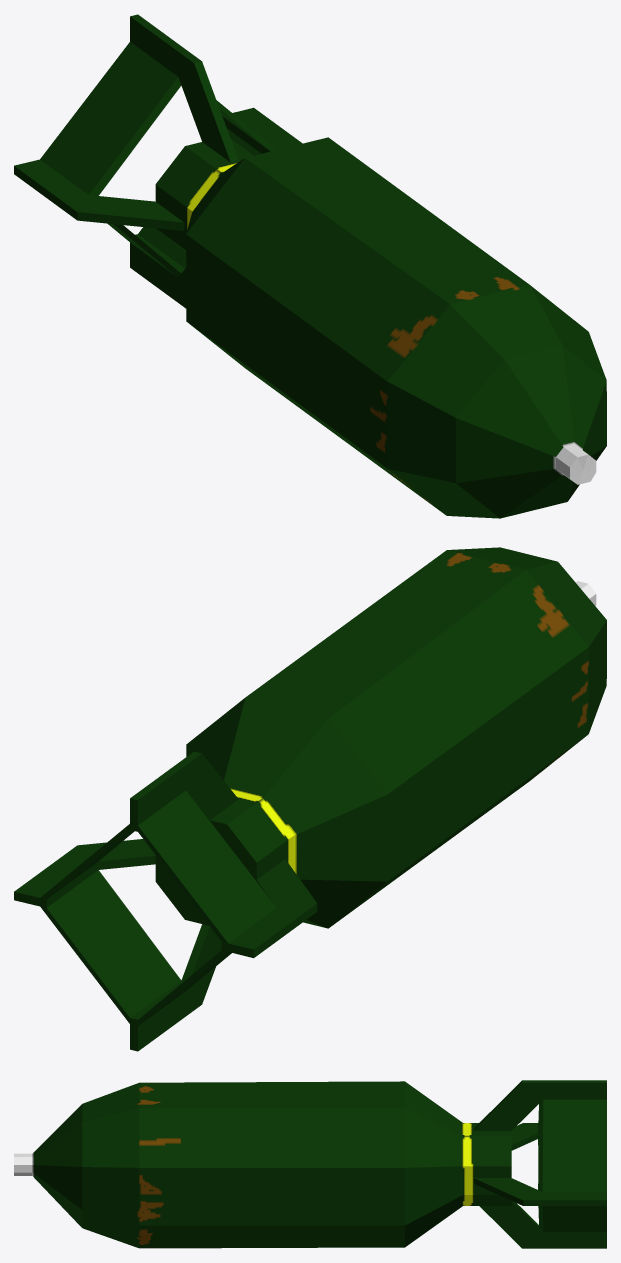
Rendered from Bomb_Import.fbx.
The picture shows the model from 3 angles, top to bottom: view 1: azimuth 30°, elevation 25°; view 2: azimuth 150°, elevation 25°; view 3: azimuth 270°, elevation 25°; orthographic projection. The views are drawn at different scales.
Visible parts, largest first — view 1: Bomb; view 2: Bomb; view 3: Bomb.
Part boxes in pixels (bbox=[...]): Bomb: bbox=[14, 14, 606, 518]; Bomb: bbox=[14, 547, 606, 1051]; Bomb: bbox=[14, 1080, 606, 1248].
Bounding box in the file's own units: 1 × 1 × 3.25.
